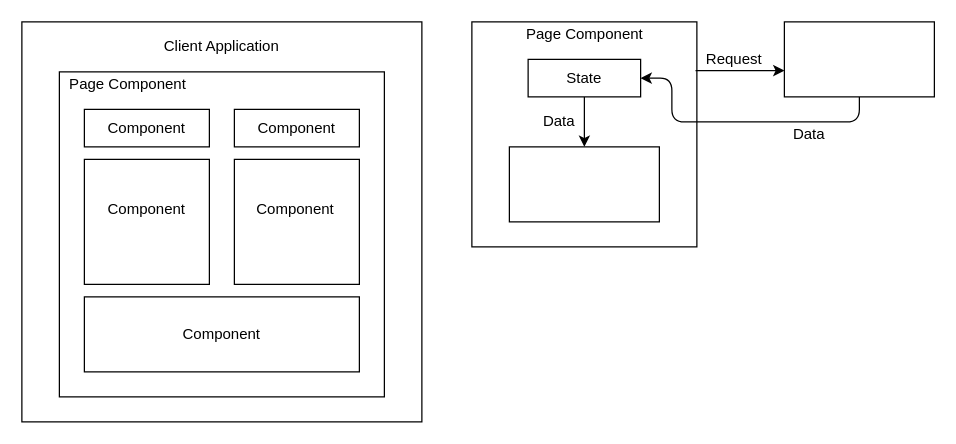
Image size: 956x444. Some labels were removed from this diagram. The shapes that lost their labels are listed below. From the top down, each one's centre as x and y in pixels, then its label:
(x=858, y=59): API
(x=583, y=184): Components
